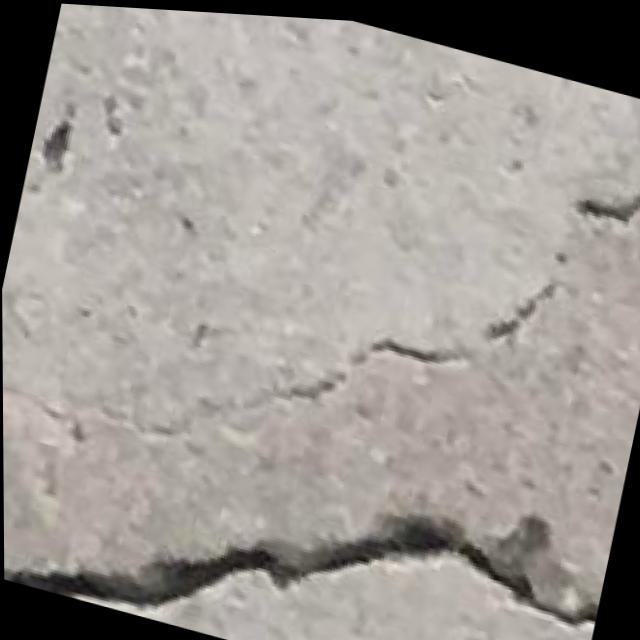Crack: (1, 106, 585, 529), (2, 376, 608, 640), (559, 114, 640, 238)
